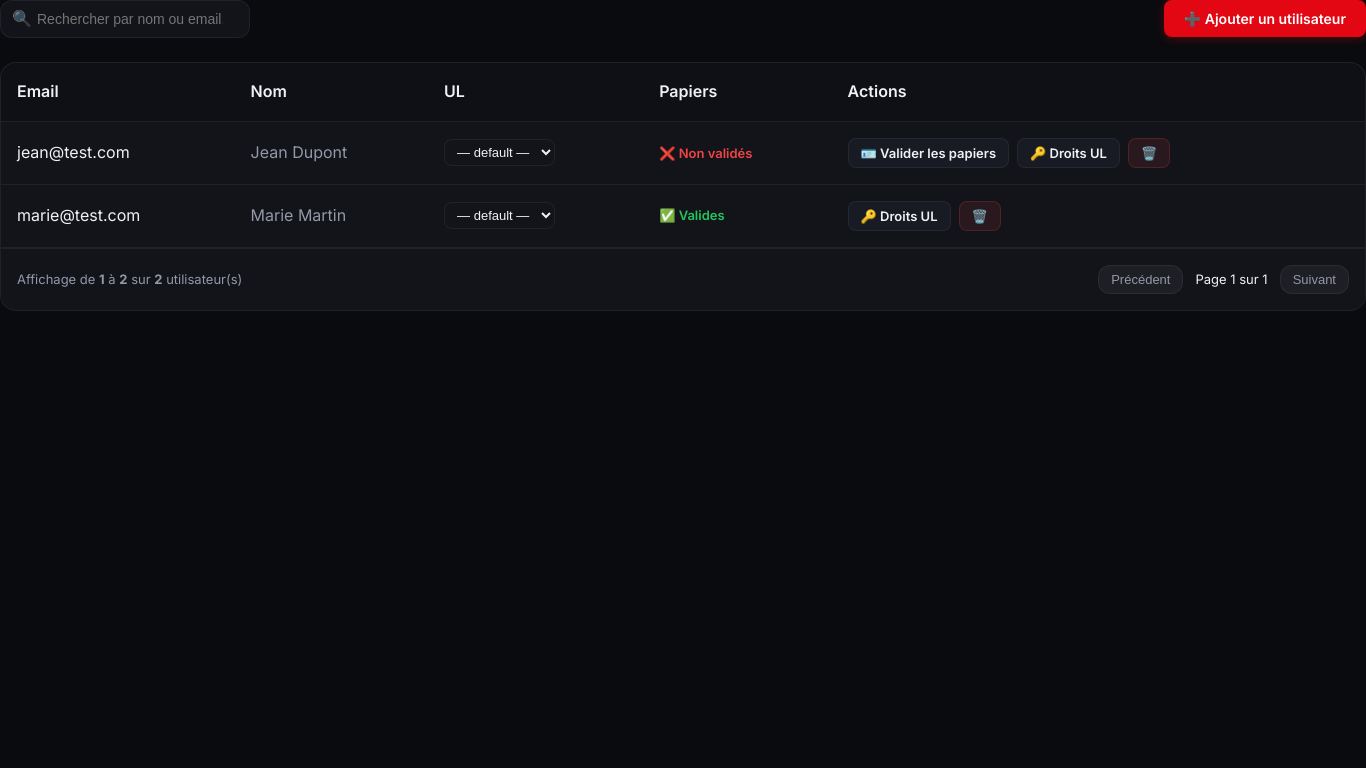
Test: UsersTab › ouvre AddUserModal via le bouton "Ajouter un utilisateur"
Click the button "➕ Ajouter un utilisateur". click: {"x": 1265, "y": 18}
box: [1164,0,1365,37]
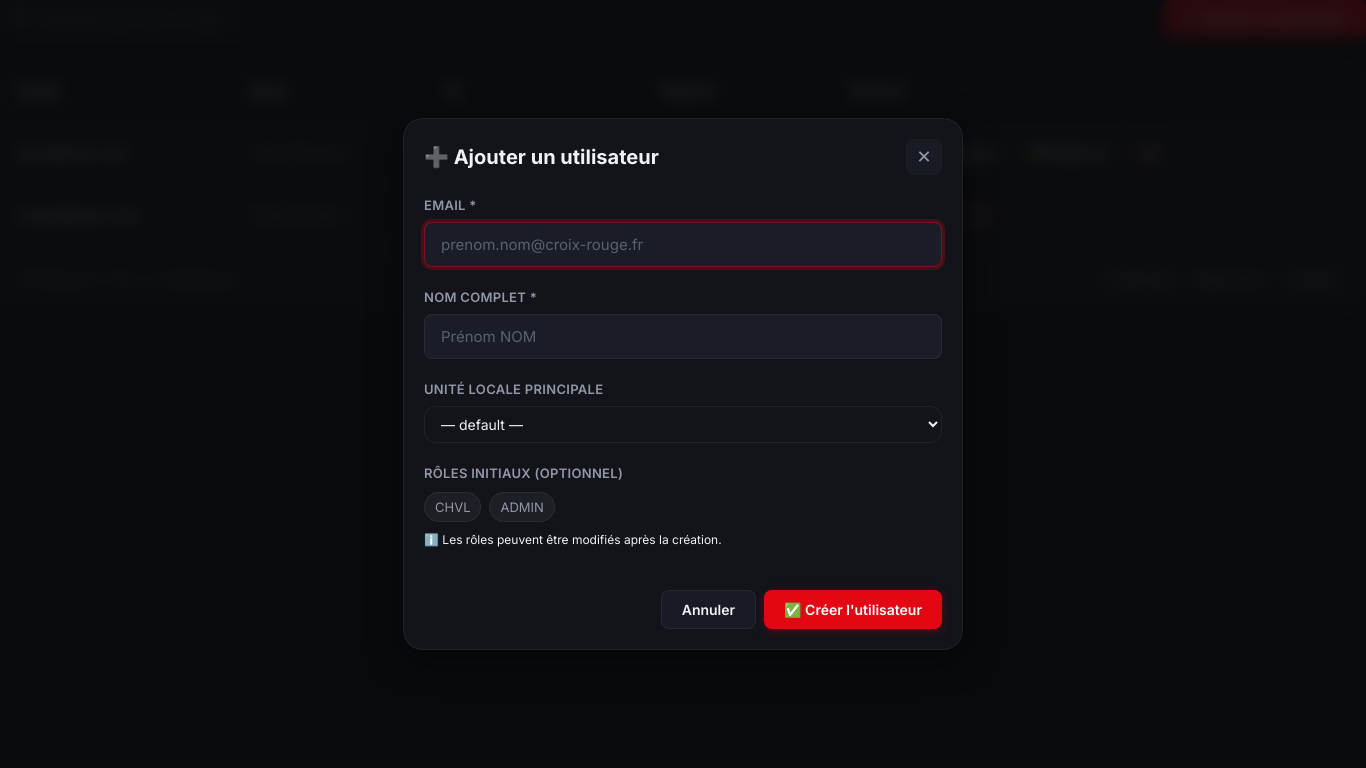
Result: the heading "➕ Ajouter un utilisateur" is shown at [424,141,659,173]
